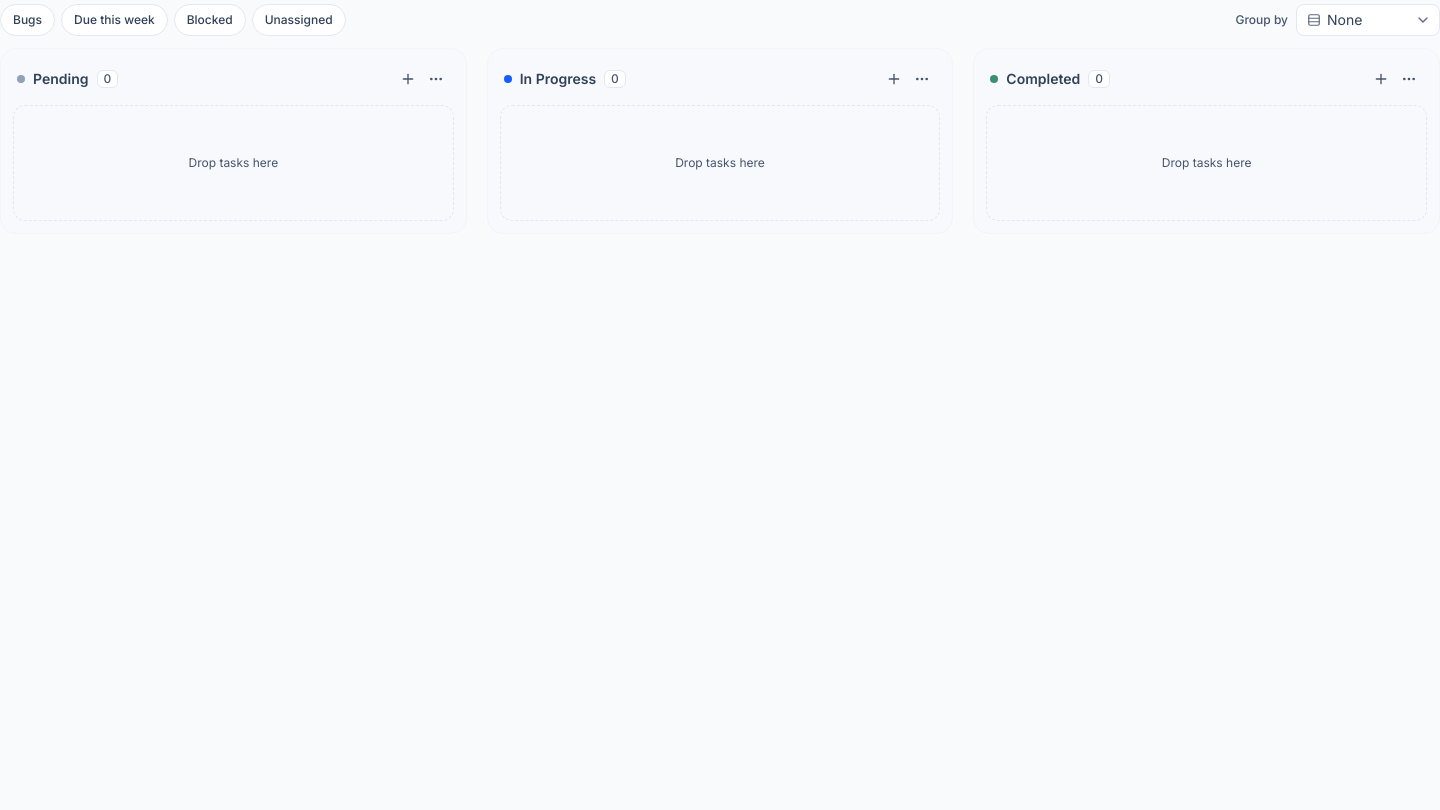
Test: BoardView WIP limits › rejects values that are not whole numbers and keeps the dialog open
Click the button named "Options for Pending column" at [436, 79], box x1=422 y1=65 x2=450 y2=93
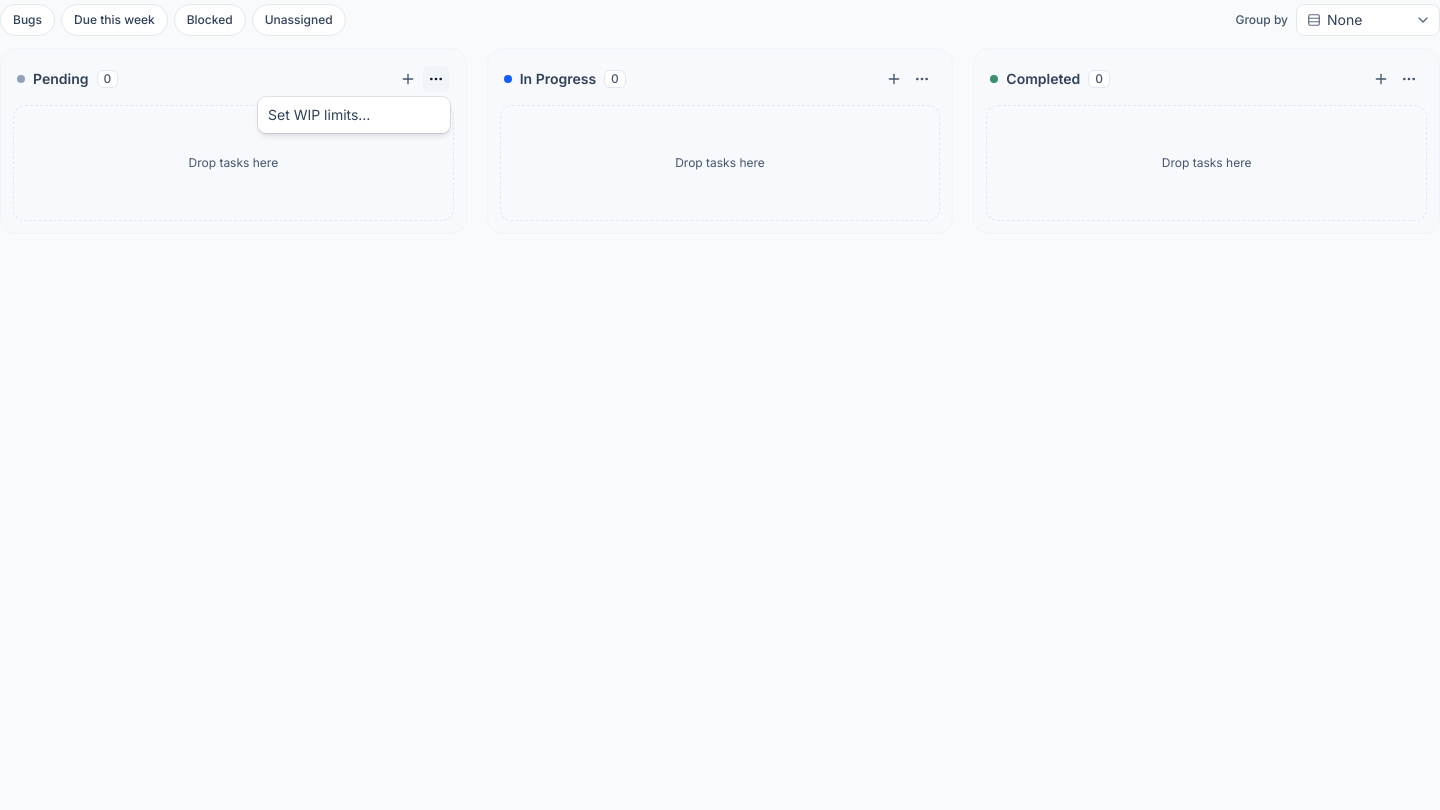
Click the menu item "Set WIP limits…" at [319, 114], box x1=268 y1=106 x2=370 y2=123
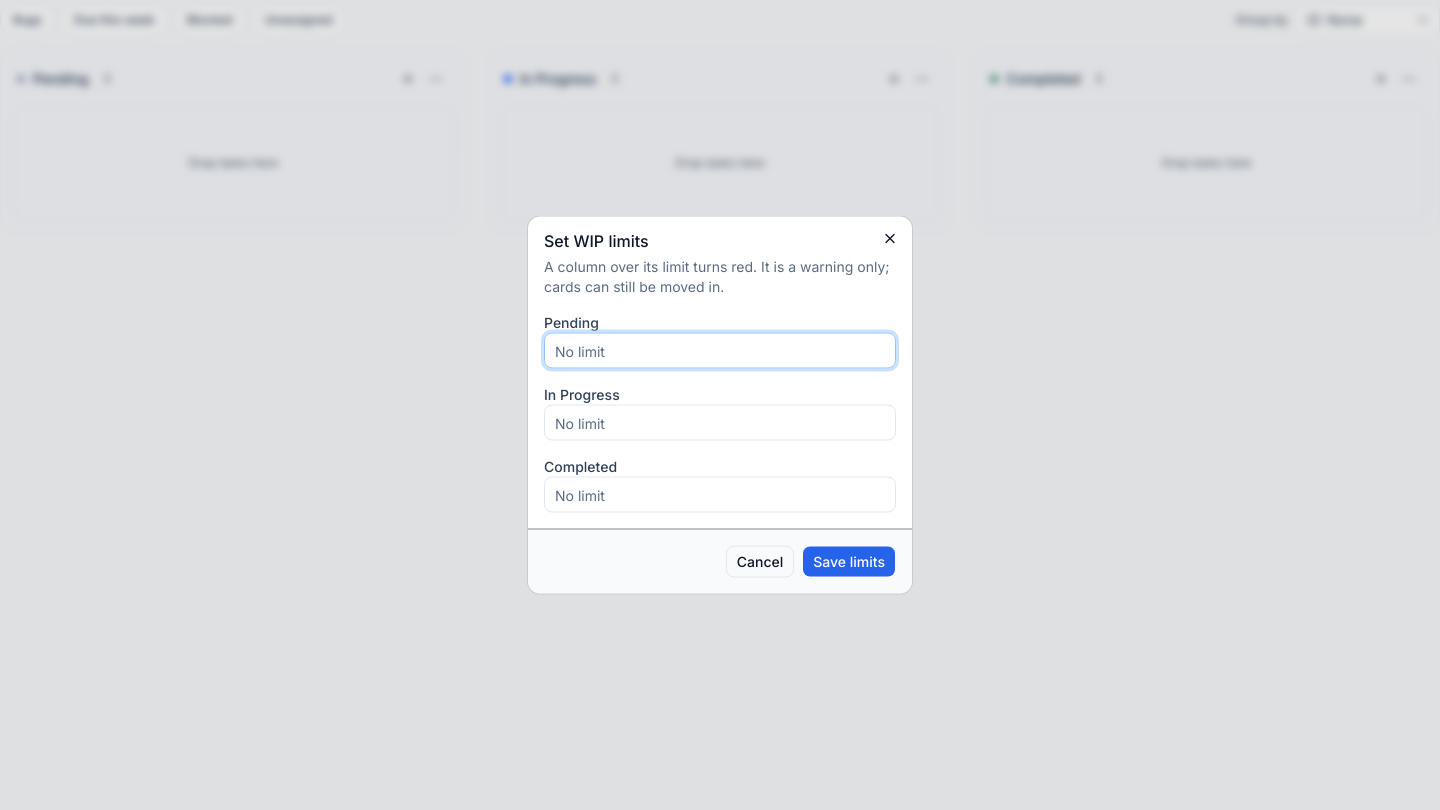
Type "abc" into the field labelled "Pending" at [720, 350], box x1=544 y1=332 x2=896 y2=368
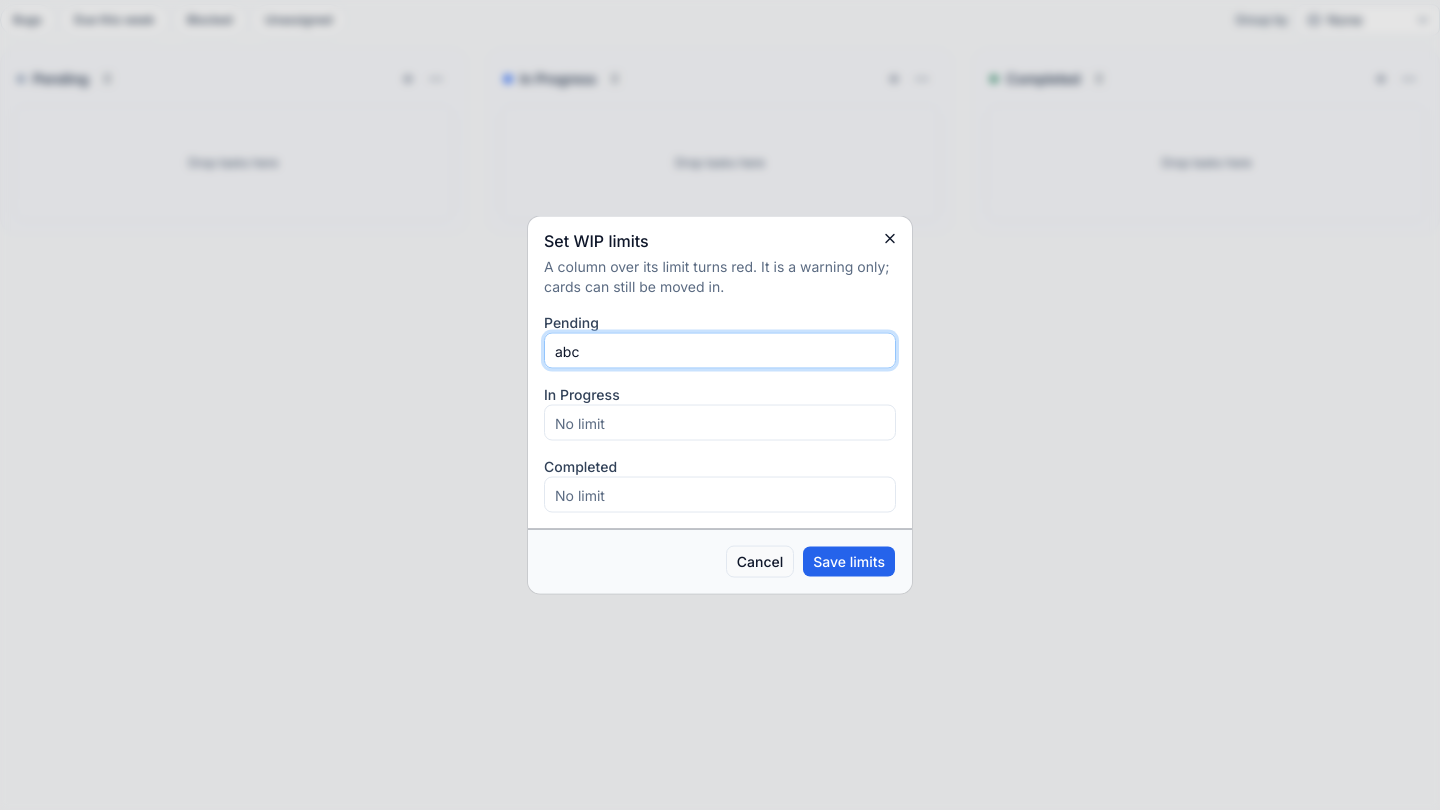
Click the button "Save limits" at [849, 562], box x1=802 y1=546 x2=896 y2=578
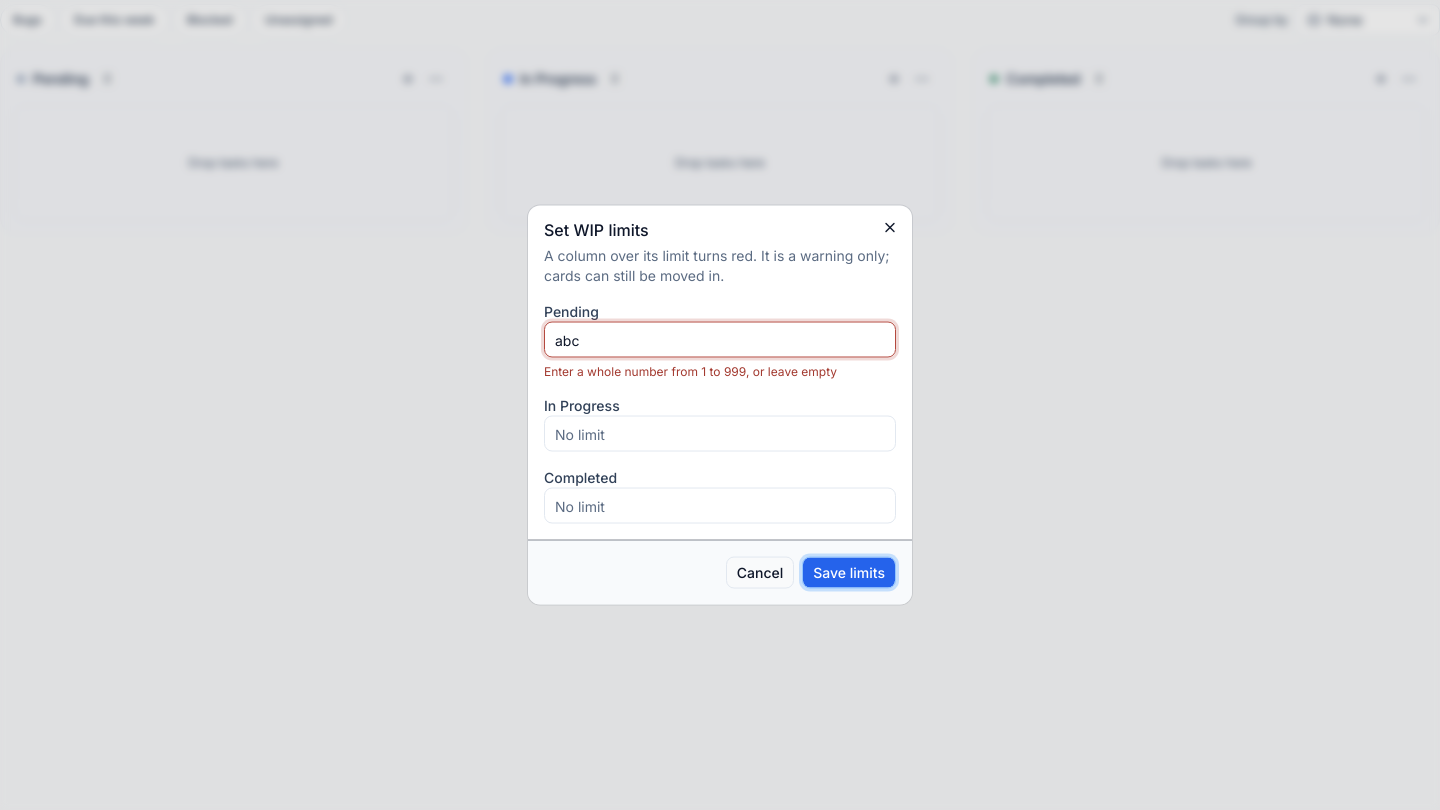
Expected: the text "Enter a whole number from 1 to 999, or leave empty" is shown, x1=544 y1=364 x2=837 y2=378
